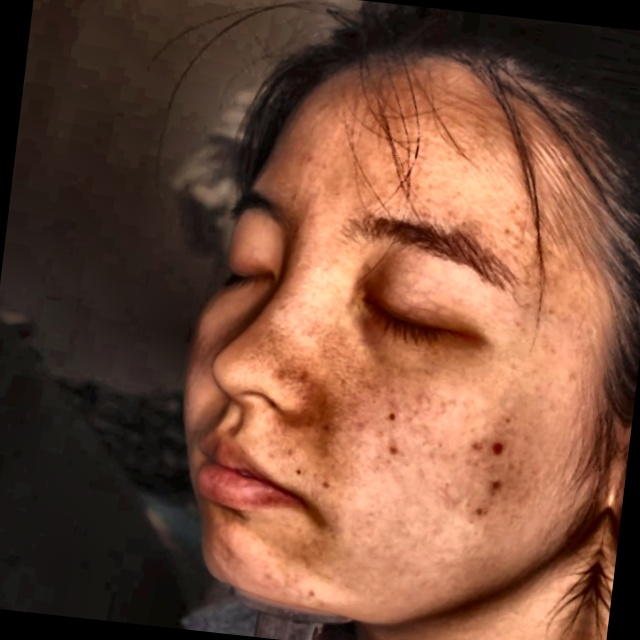comedone: (475, 435, 512, 464)
